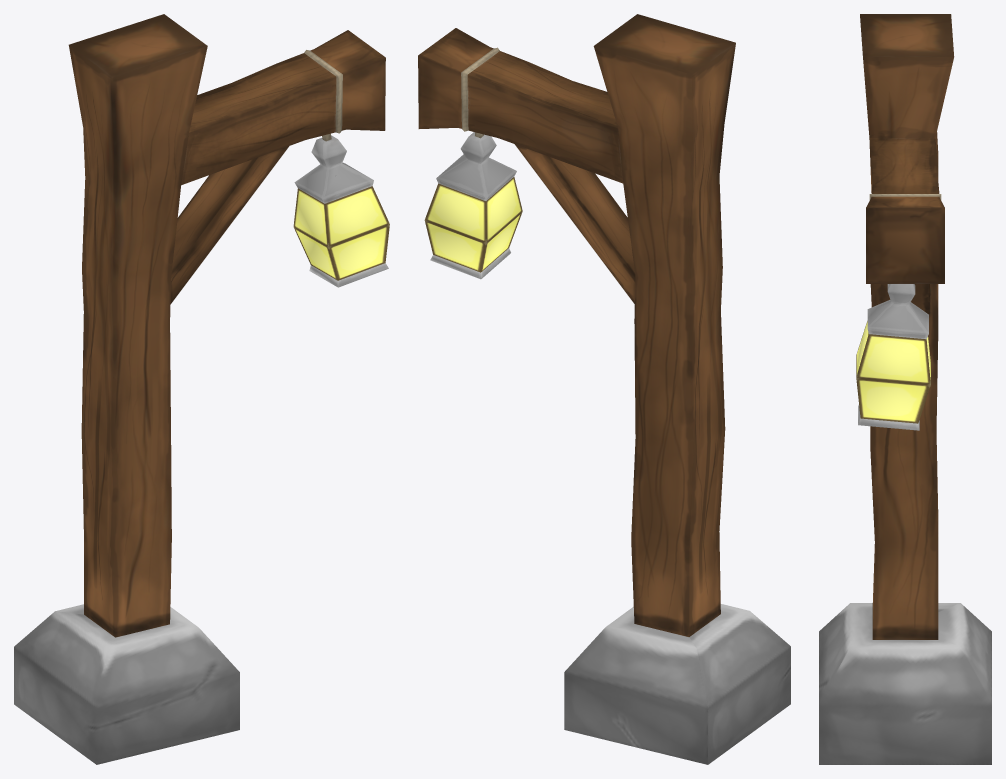
The model's file is old_lantern.glb.
The picture shows the model from 3 angles, left to right: view 1: azimuth 30°, elevation 25°; view 2: azimuth 150°, elevation 25°; view 3: azimuth 270°, elevation 25°; orthographic projection. The views are drawn at different scales.
Visible parts, largest first — view 1: Lantern, Lamp; view 2: Lantern, Lamp; view 3: Lantern, Lamp.
Part boxes in pixels (x1=…): Lantern: x1=14, y1=14, x2=385, y2=764; Lamp: x1=293, y1=133, x2=389, y2=287; Lantern: x1=418, y1=14, x2=790, y2=764; Lamp: x1=424, y1=132, x2=522, y2=279; Lantern: x1=819, y1=14, x2=991, y2=764; Lamp: x1=856, y1=284, x2=930, y2=430.
Size of the model in its own units: 1.08 by 2.23 by 0.4977.
Materials: 1 (1 with a texture image).
